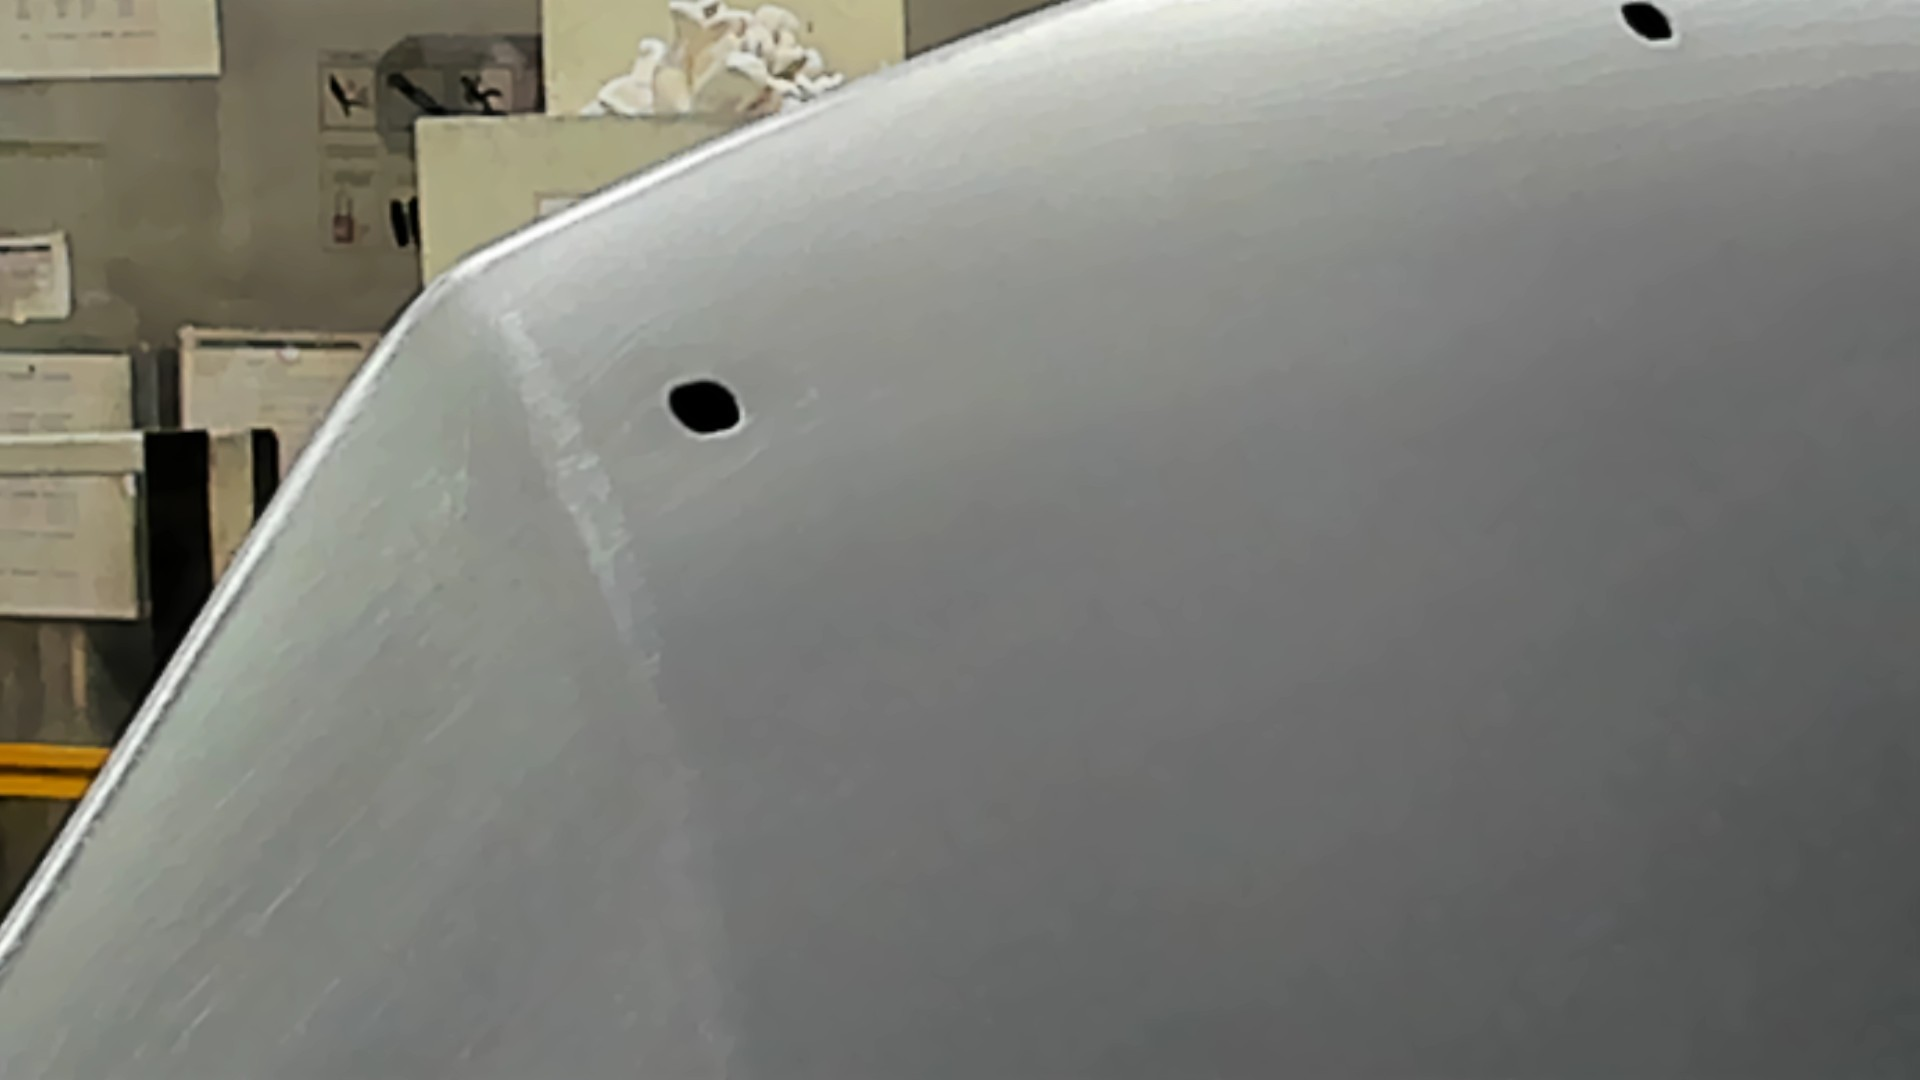amorfo: (651, 375, 752, 444), (1611, 1, 1687, 58)
capo: (884, 102, 1920, 1080)
